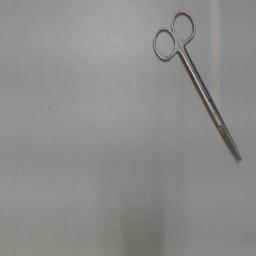Curved Mayo Scissors: (150, 6, 244, 166)
